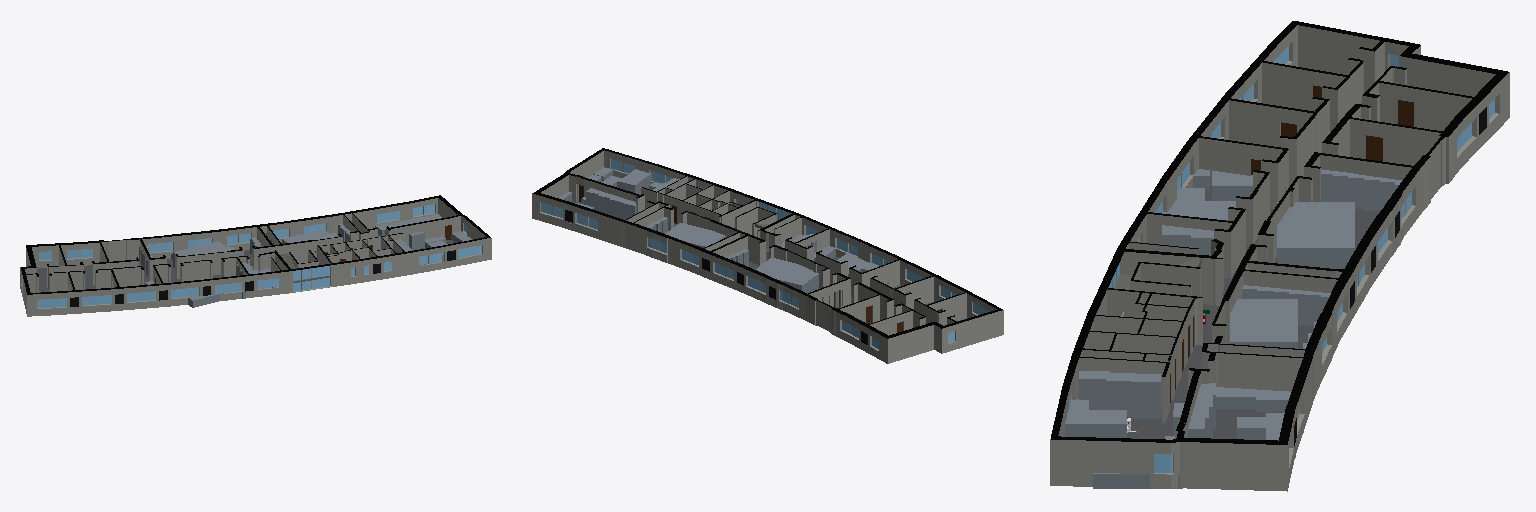
The robot description file, URDF, robot "celisca_floor_1":
<?xml version='1.0' encoding='utf-8'?>
<robot name="celisca_floor_1">
  <link name="floor" concave="yes">
    <inertial>
      <mass value="0" />
      <inertia ixx="0" ixy="0" ixz="0" iyy="0" iyz="0" izz="0" />
    </inertial>
    <visual name="visual_0">
      <geometry>
        <mesh filename="meshes/visual_material_000.obj" scale="1 1 1" />
      </geometry>
      <material name="material_0">
        <color rgba="0.36 0.37 0.38 1" />
      </material>
    </visual>
    <visual name="visual_1">
      <geometry>
        <mesh filename="meshes/visual_material_001.obj" scale="1 1 1" />
      </geometry>
      <material name="material_1">
        <color rgba="0.45 0.45 0.43 1" />
      </material>
    </visual>
    <visual name="visual_2">
      <geometry>
        <mesh filename="meshes/visual_material_002.obj" scale="1 1 1" />
      </geometry>
      <material name="material_2">
        <color rgba="0.02 0.02 0.022 1" />
      </material>
    </visual>
    <visual name="visual_3">
      <geometry>
        <mesh filename="meshes/visual_material_003.obj" scale="1 1 1" />
      </geometry>
      <material name="material_3">
        <color rgba="0.62 0.62 0.6 1" />
      </material>
    </visual>
    <visual name="visual_4">
      <geometry>
        <mesh filename="meshes/visual_material_004.obj" scale="1 1 1" />
      </geometry>
      <material name="material_4">
        <color rgba="0.03 0.032 0.036 1" />
      </material>
    </visual>
    <visual name="visual_5">
      <geometry>
        <mesh filename="meshes/visual_material_005.obj" scale="1 1 1" />
      </geometry>
      <material name="material_5">
        <color rgba="0.55 0.75 0.88 0.3" />
      </material>
    </visual>
    <visual name="visual_6">
      <geometry>
        <mesh filename="meshes/visual_material_006.obj" scale="1 1 1" />
      </geometry>
      <material name="material_6">
        <color rgba="0.32 0.2 0.11 1" />
      </material>
    </visual>
    <visual name="visual_7">
      <geometry>
        <mesh filename="meshes/visual_material_007.obj" scale="1 1 1" />
      </geometry>
      <material name="material_7">
        <color rgba="0.1 0.11 0.12 1" />
      </material>
    </visual>
    <visual name="visual_8">
      <geometry>
        <mesh filename="meshes/visual_material_008.obj" scale="1 1 1" />
      </geometry>
      <material name="material_8">
        <color rgba="0.52 0.56 0.6 1" />
      </material>
    </visual>
    <visual name="visual_9">
      <geometry>
        <mesh filename="meshes/visual_material_009.obj" scale="1 1 1" />
      </geometry>
      <material name="material_9">
        <color rgba="0.91 0.92 0.9 1" />
      </material>
    </visual>
    <visual name="visual_10">
      <geometry>
        <mesh filename="meshes/visual_material_010.obj" scale="1 1 1" />
      </geometry>
      <material name="material_10">
        <color rgba="0.98 0.98 0.97 1" />
      </material>
    </visual>
    <visual name="visual_11">
      <geometry>
        <mesh filename="meshes/visual_material_011.obj" scale="1 1 1" />
      </geometry>
      <material name="material_11">
        <color rgba="0.23 0.3 0.33 1" />
      </material>
    </visual>
    <visual name="visual_12">
      <geometry>
        <mesh filename="meshes/visual_material_012.obj" scale="1 1 1" />
      </geometry>
      <material name="material_12">
        <color rgba="0.54 0.59 0.62 1" />
      </material>
    </visual>
    <visual name="visual_13">
      <geometry>
        <mesh filename="meshes/visual_material_013.obj" scale="1 1 1" />
      </geometry>
      <material name="material_13">
        <color rgba="0.97 0.98 0.97 1" />
      </material>
    </visual>
    <visual name="visual_14">
      <geometry>
        <mesh filename="meshes/visual_material_014.obj" scale="1 1 1" />
      </geometry>
      <material name="material_14">
        <color rgba="0.63 0.77 0.83 1" />
      </material>
    </visual>
    <visual name="visual_15">
      <geometry>
        <mesh filename="meshes/visual_material_015.obj" scale="1 1 1" />
      </geometry>
      <material name="material_15">
        <color rgba="0.6 0.72 0.75 1" />
      </material>
    </visual>
    <visual name="visual_16">
      <geometry>
        <mesh filename="meshes/visual_material_016.obj" scale="1 1 1" />
      </geometry>
      <material name="material_16">
        <color rgba="0.03 0.38 0.16 1" />
      </material>
    </visual>
    <visual name="visual_17">
      <geometry>
        <mesh filename="meshes/visual_material_017.obj" scale="1 1 1" />
      </geometry>
      <material name="material_17">
        <color rgba="0.7 0.045 0.035 1" />
      </material>
    </visual>
    <visual name="visual_18">
      <geometry>
        <mesh filename="meshes/visual_material_018.obj" scale="1 1 1" />
      </geometry>
      <material name="material_18">
        <color rgba="0.91 0.93 0.93 1" />
      </material>
    </visual>
    <visual name="visual_19">
      <geometry>
        <mesh filename="meshes/visual_material_019.obj" scale="1 1 1" />
      </geometry>
      <material name="material_19">
        <color rgba="0.1 0.12 0.14 1" />
      </material>
    </visual>
    <visual name="visual_20">
      <geometry>
        <mesh filename="meshes/visual_material_020.obj" scale="1 1 1" />
      </geometry>
      <material name="material_20">
        <color rgba="0.65 0.41 0.24 1" />
      </material>
    </visual>
    <visual name="visual_21">
      <geometry>
        <mesh filename="meshes/visual_material_021.obj" scale="1 1 1" />
      </geometry>
      <material name="material_21">
        <color rgba="0.91 0.72 0.14 1" />
      </material>
    </visual>
    <visual name="visual_22">
      <geometry>
        <mesh filename="meshes/visual_material_022.obj" scale="1 1 1" />
      </geometry>
      <material name="material_22">
        <color rgba="0.76 0.14 0.14 1" />
      </material>
    </visual>
    <visual name="visual_23">
      <geometry>
        <mesh filename="meshes/visual_material_023.obj" scale="1 1 1" />
      </geometry>
      <material name="material_23">
        <color rgba="0.078 0.325 0.569 1" />
      </material>
    </visual>
    <visual name="visual_24">
      <geometry>
        <mesh filename="meshes/visual_material_024.obj" scale="1 1 1" />
      </geometry>
      <material name="material_24">
        <color rgba="0.77 0.82 0.83 1" />
      </material>
    </visual>
    <visual name="visual_25">
      <geometry>
        <mesh filename="meshes/visual_material_025.obj" scale="1 1 1" />
      </geometry>
      <material name="material_25">
        <color rgba="0.43 0.49 0.51 1" />
      </material>
    </visual>
    <collision concave="yes">
      <geometry>
        <mesh filename="meshes/collision.obj" scale="1 1 1" />
      </geometry>
    </collision>
  </link>
</robot>

--- Facts derived from the render (not from the file) ---
3 views of the same robot in one strip: view 1: azimuth 30°, elevation 25°; view 2: azimuth 150°, elevation 25°; view 3: azimuth 270°, elevation 25° (orthographic).
Robot: celisca_floor_1 — 1 links, 0 joints (none); root link floor; default pose: all joints at 0.
Visible links, largest first — view 1: floor; view 2: floor; view 3: floor.
Link boxes in pixels (bbox=[...]): floor: bbox=[20, 195, 491, 316]; floor: bbox=[532, 148, 1003, 363]; floor: bbox=[1050, 21, 1509, 491].
Bounding box of the posed robot: 58.91 × 26.93 × 3.04 m (x, y, z).
26 mesh visuals loaded from 26 distinct referenced files (26 OBJ).
